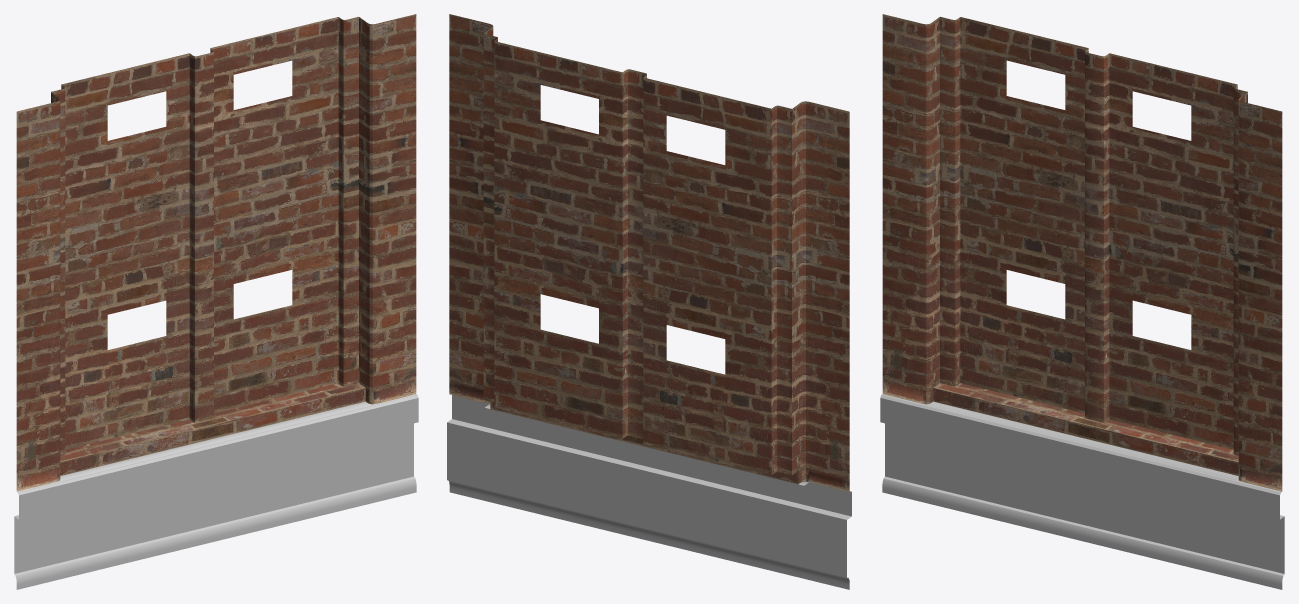
The model's file is SM_Wall_Windows_D.fbx.
3 views of the same model, side by side, from view 1: azimuth 30°, elevation 25°; view 2: azimuth 150°, elevation 25°; view 3: azimuth 330°, elevation 25° (orthographic).
Parts seen in each view (by area): view 1: SM_Wall_Windows_D; view 2: SM_Wall_Windows_D; view 3: SM_Wall_Windows_D.
Boxes of the visible parts, x1=… form: SM_Wall_Windows_D: x1=14, y1=14, x2=418, y2=589; SM_Wall_Windows_D: x1=447, y1=14, x2=851, y2=589; SM_Wall_Windows_D: x1=880, y1=14, x2=1284, y2=589.
Bounding box in the file's own units: 700 × 57.38 × 800.
